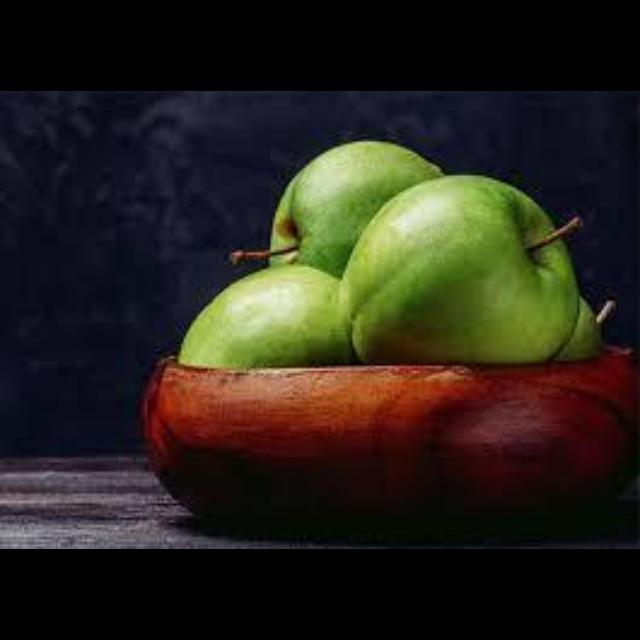apple: (341, 176, 577, 361), (270, 144, 442, 277), (179, 265, 353, 369)
